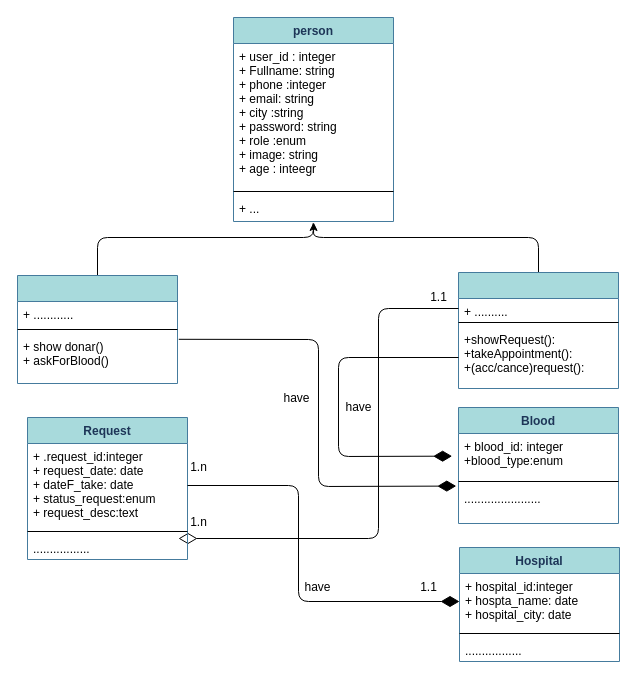
Some shapes in this 637 by 682 pixel diagram are drawn without their labels. Here are the shapes that lost their labels. From the top down, the box of each, then its label:
(16, 274, 178, 384): patient
(458, 272, 618, 388): Donor
